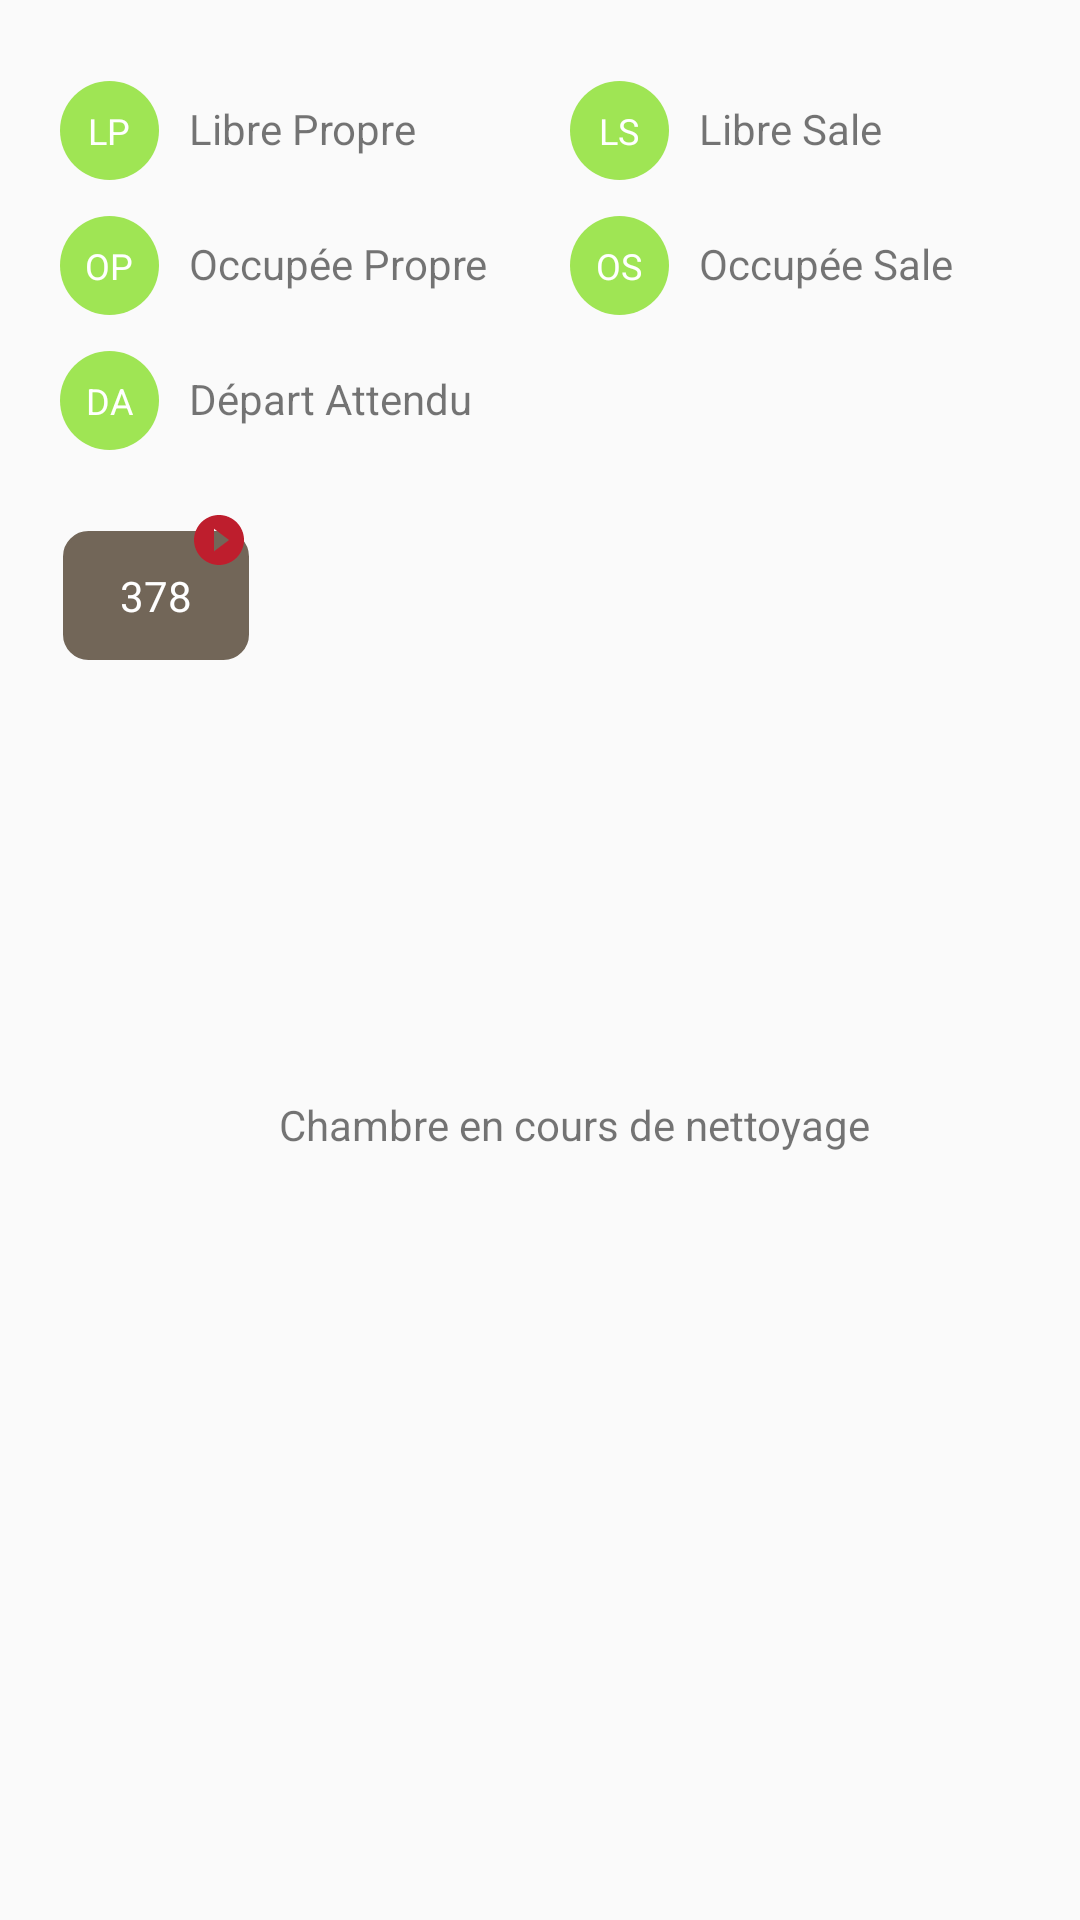

Locate icon controls on the screen. Image size 1080px×1920px, boxes as (x1, y1, x2, y2).
play circle: (189, 515, 249, 570)
